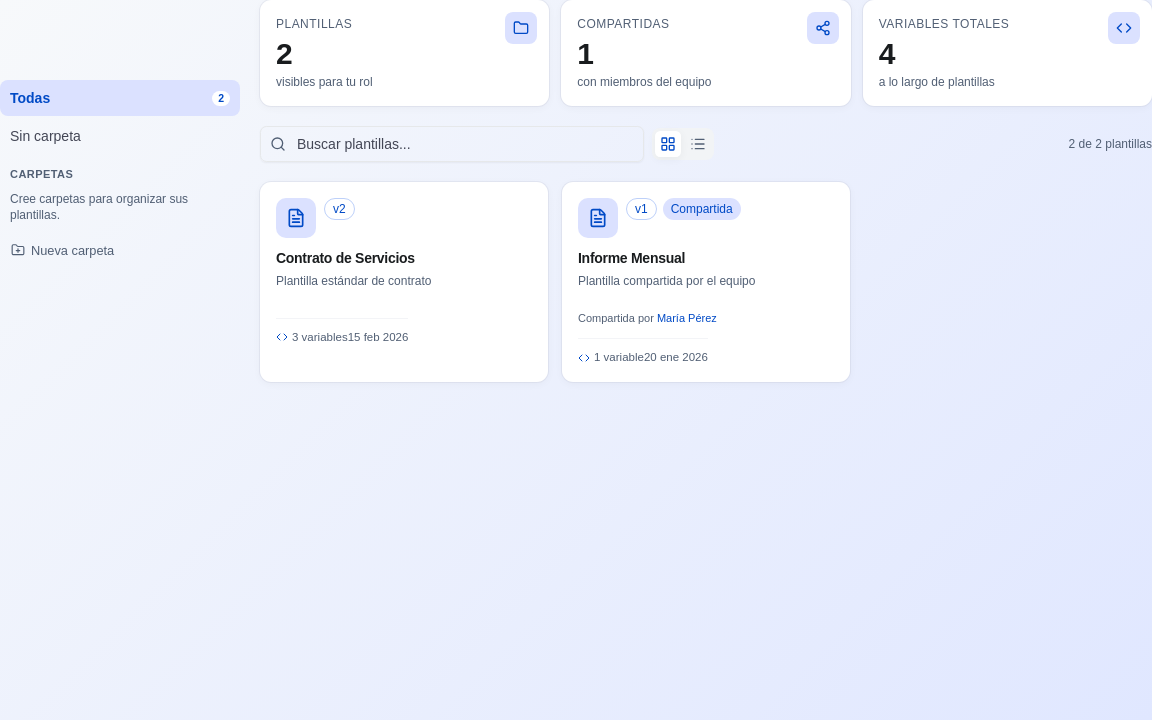
TemplateList — Propietario / owner_name display › shows owner_name in the Propietario column in table mode
The image size is (1152, 720).
Expected: the heading "Contrato de Servicios" is shown, [276,250,431,268]
Click the button named "vista de tabla". click: (698, 144)
box: [684,130,712,158]
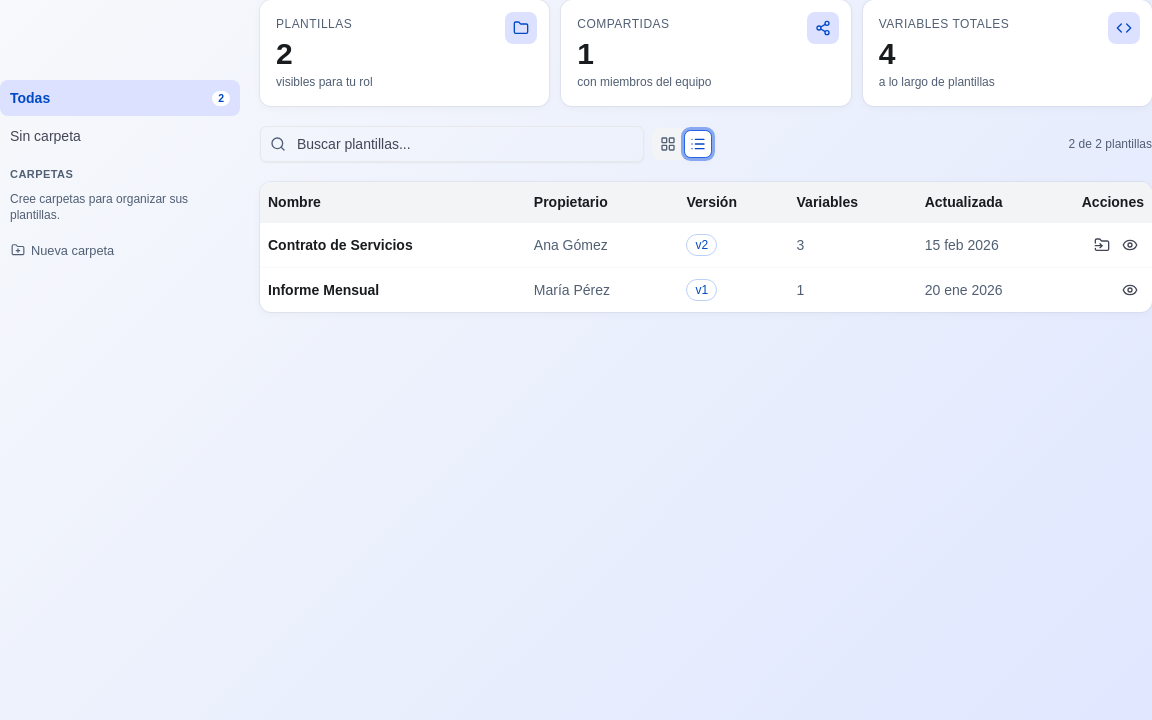
Expected: the cell "María Pérez" is shown, [526,267,678,312]
Result: the column heading "Propietario" is shown at [526,182,678,222]
Result: the cell "Ana Gómez" is shown at [526,222,678,267]
